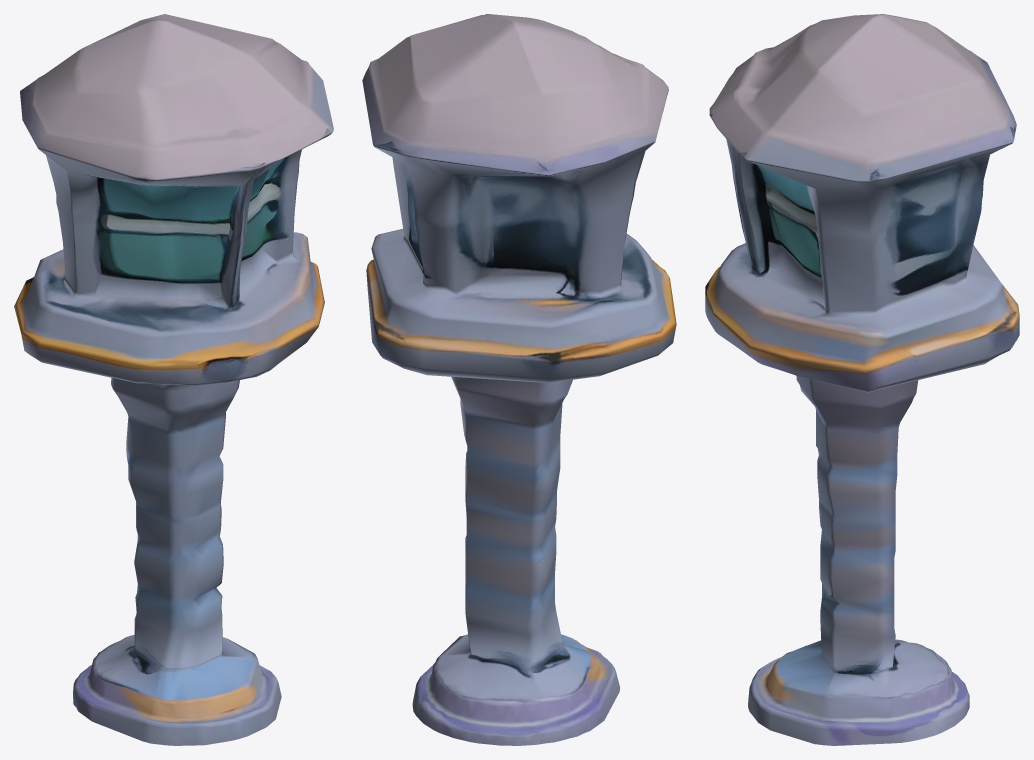
Rendered from watchtower.glb.
The picture shows the model from 3 angles, left to right: view 1: azimuth 30°, elevation 25°; view 2: azimuth 150°, elevation 25°; view 3: azimuth 270°, elevation 25°; orthographic projection.
Visible parts, largest first — view 1: watchtower; view 2: watchtower; view 3: watchtower.
Part boxes in pixels (x1,y1,x2,y2): watchtower: (14, 14, 333, 745); watchtower: (362, 14, 676, 745); watchtower: (705, 14, 1019, 745).
Bounding box in the file's own units: 0.456 × 1 × 0.4168.
Materials: 1 (1 with a texture image).
